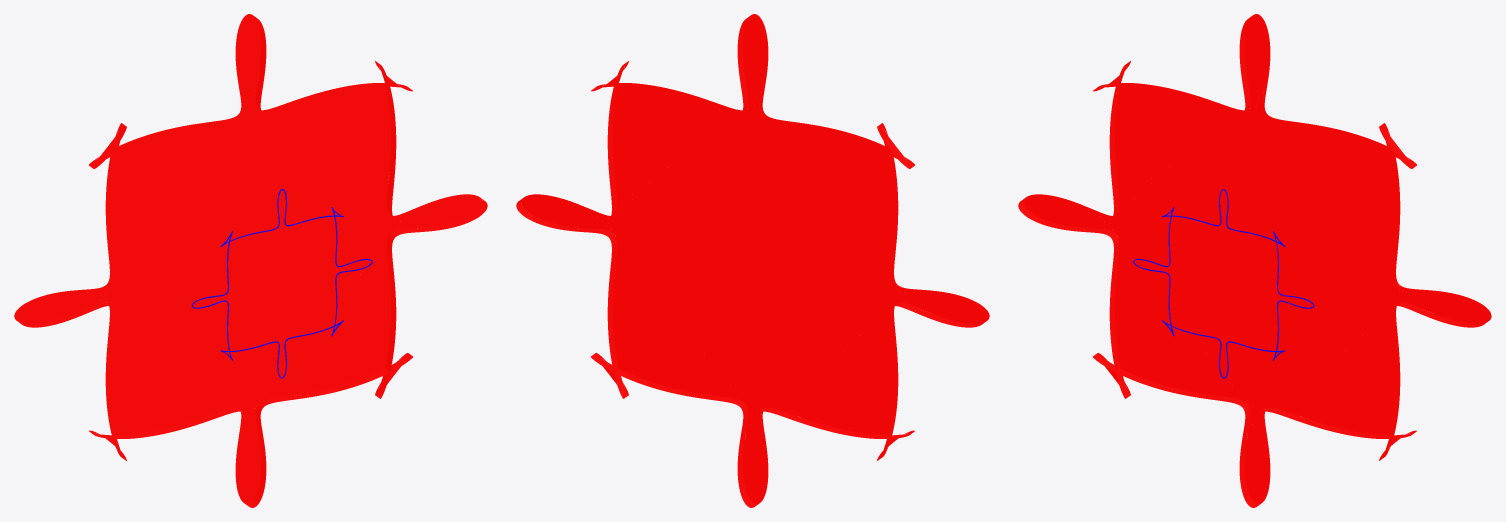
Rendered from FryingPan.glb.
3 views of the same model, side by side, from view 1: azimuth 30°, elevation 25°; view 2: azimuth 150°, elevation 25°; view 3: azimuth 330°, elevation 25° (orthographic).
Bounding box in the file's own units: 2.6 × 2.6 × 0.328.
